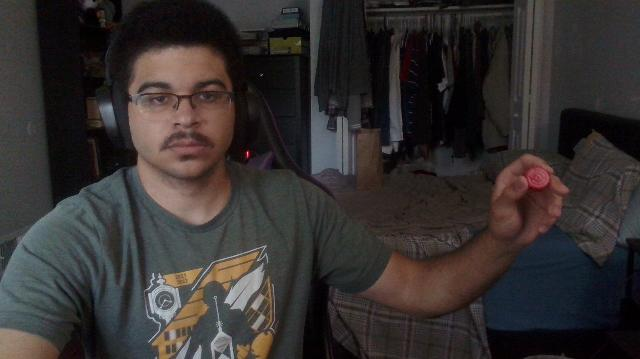cap: (525, 168, 549, 192)
